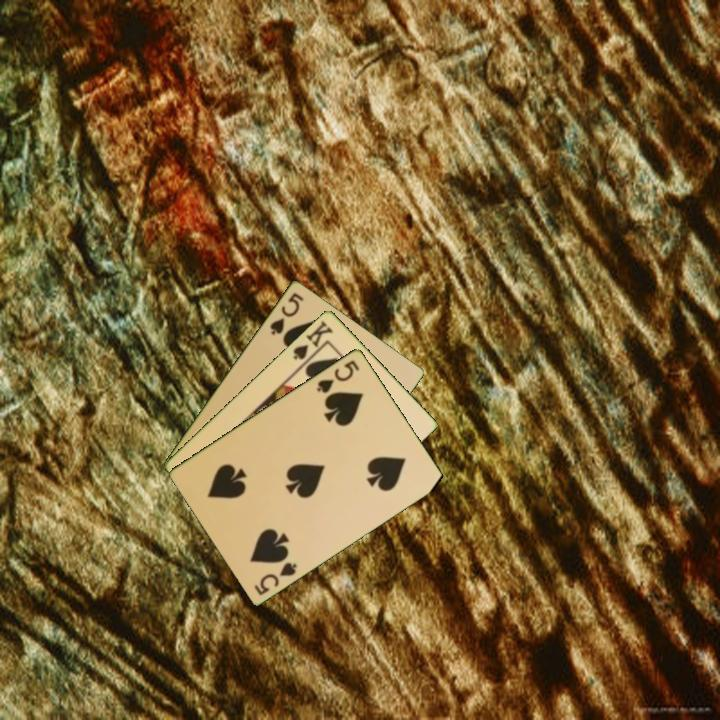5s: (266, 289, 306, 338), (313, 356, 362, 396), (251, 558, 300, 598)
Ks: (289, 317, 336, 368)
